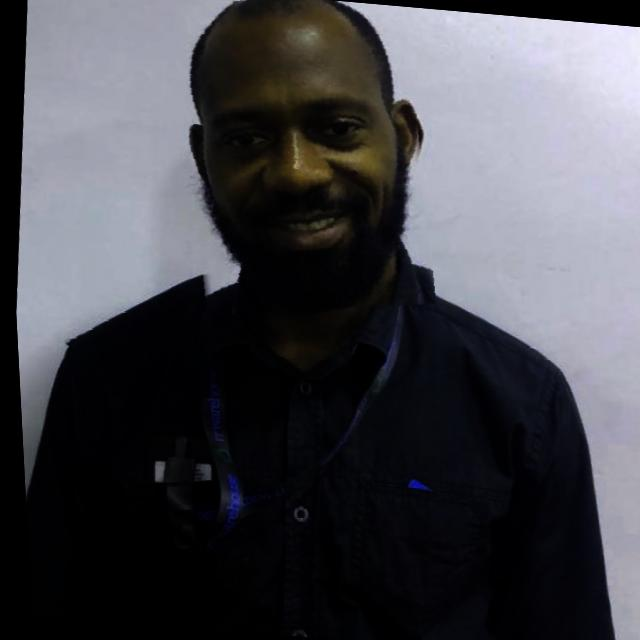happy: (157, 0, 448, 327)
